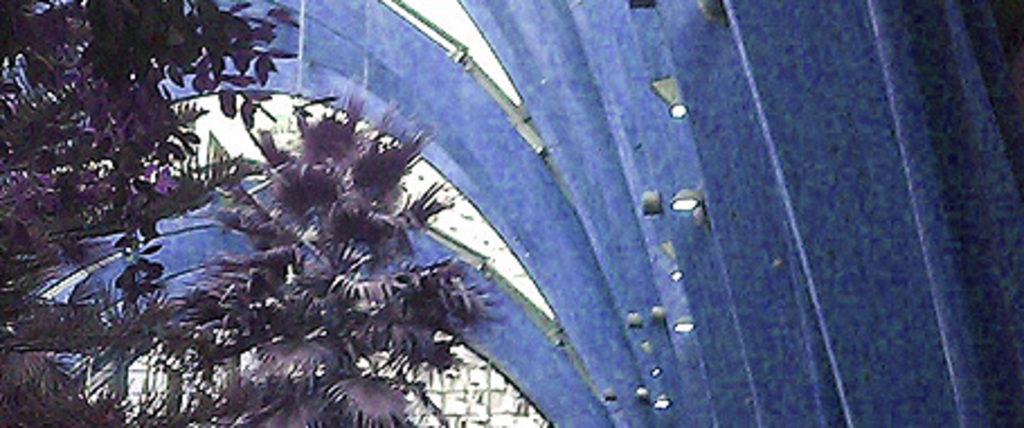Tree: (0, 0, 504, 425)
